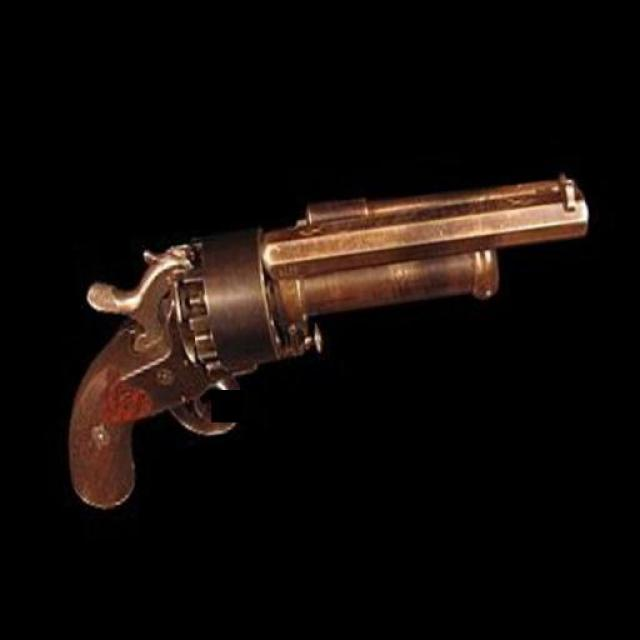gun: (33, 142, 622, 518)
